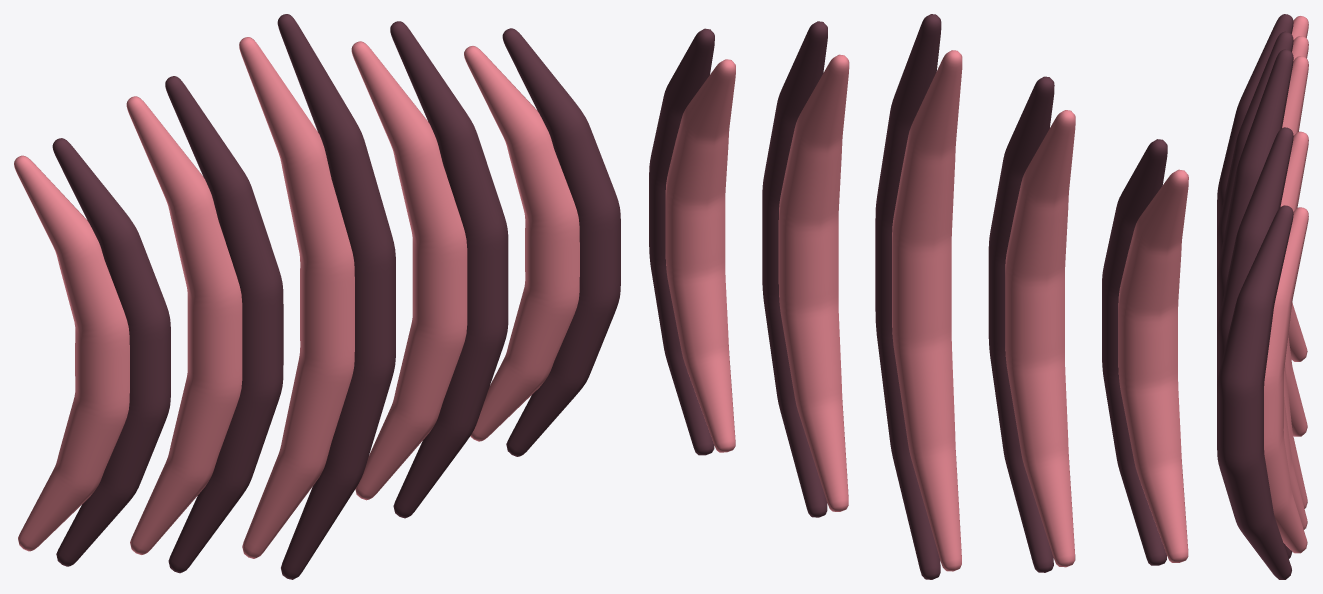
The model's file is creature.gills.glb.
3 renders of one model, left to right at view 1: azimuth 30°, elevation 25°; view 2: azimuth 150°, elevation 25°; view 3: azimuth 270°, elevation 25°, orthographic. The views are drawn at different scales.
Parts seen in each view (by area): view 1: Gill, Dark; view 2: Gill, Dark; view 3: Dark, Gill.
Boxes of the visible parts, x1=… form: Gill: x1=14, y1=37, x2=579, y2=558; Dark: x1=52, y1=14, x2=620, y2=579; Gill: x1=665, y1=50, x2=1188, y2=571; Dark: x1=649, y1=14, x2=1167, y2=579; Dark: x1=1217, y1=14, x2=1293, y2=579; Gill: x1=1264, y1=16, x2=1308, y2=553.
Bounding box in the file's own units: 0.8592 × 0.8136 × 0.1378.
